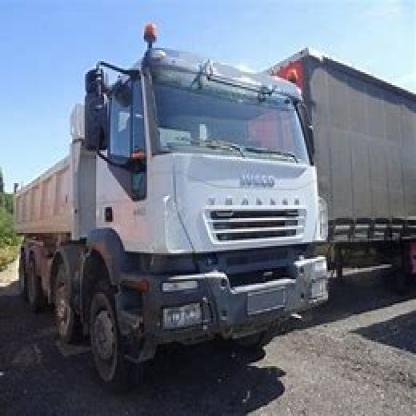dump_truck: (11, 44, 346, 390)
